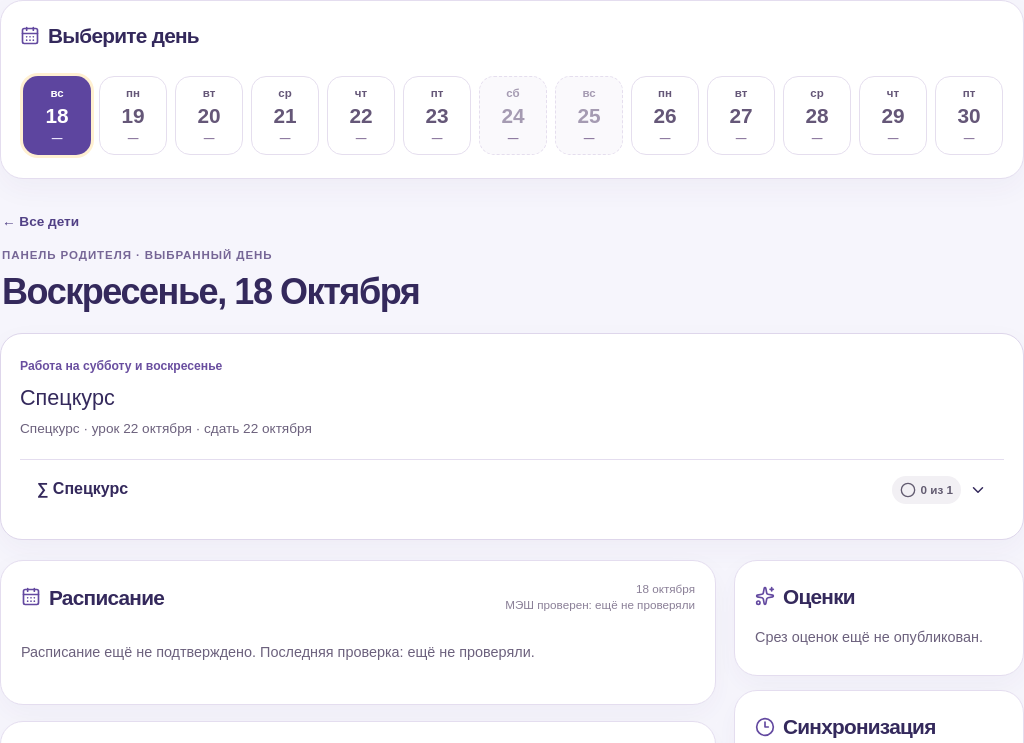
Test: shared calendar with the actual weekend task composition › still closes a genuinely revoked current parent session without exposing a student fallback
The width and height of the screenshot is (1024, 743).
What coordinates should you click on to do the following:
click the button "∑ Спецкурс 0 из 1"
I would click on:
 (83, 489)
Its box is [20, 460, 1004, 520].
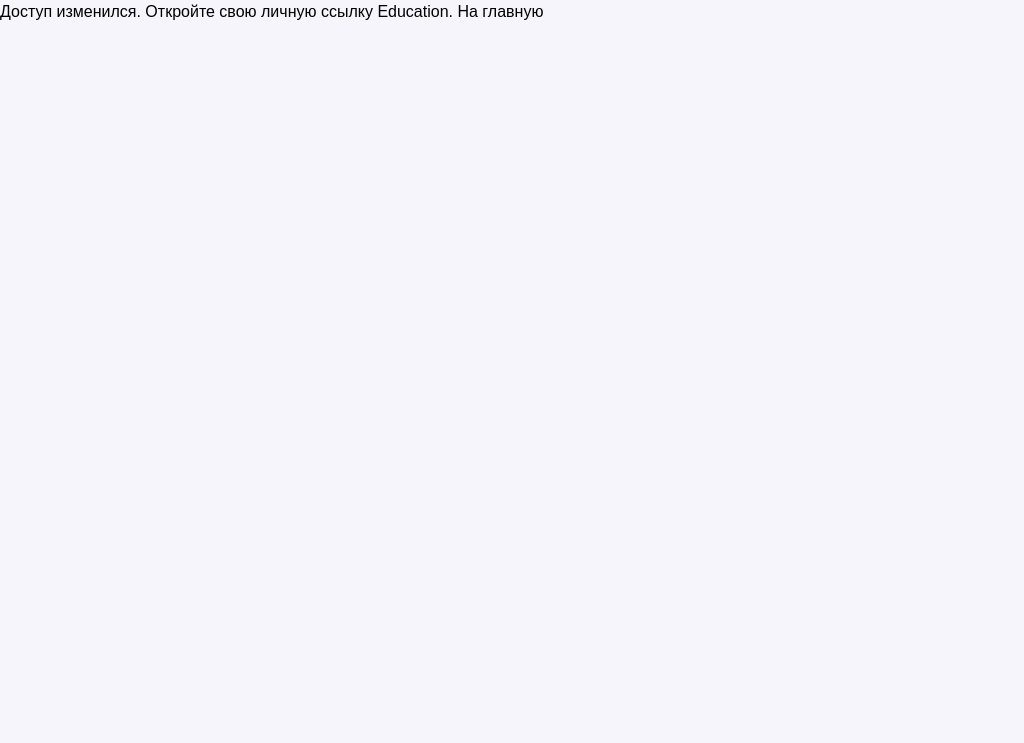
Expected: the text "Доступ изменился" is shown, [0, 3, 453, 20]
